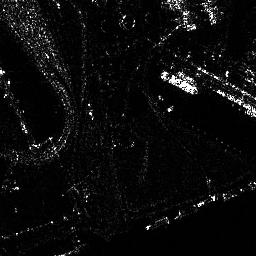ship: (161, 69, 199, 95)
